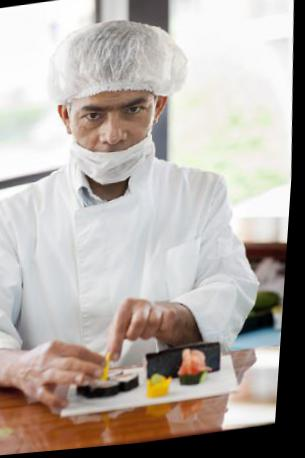WRONG: (68, 87, 161, 194)
